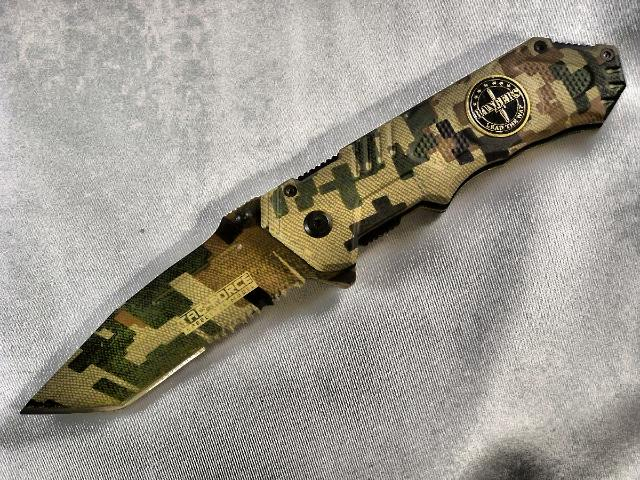knife: (12, 170, 350, 424)
